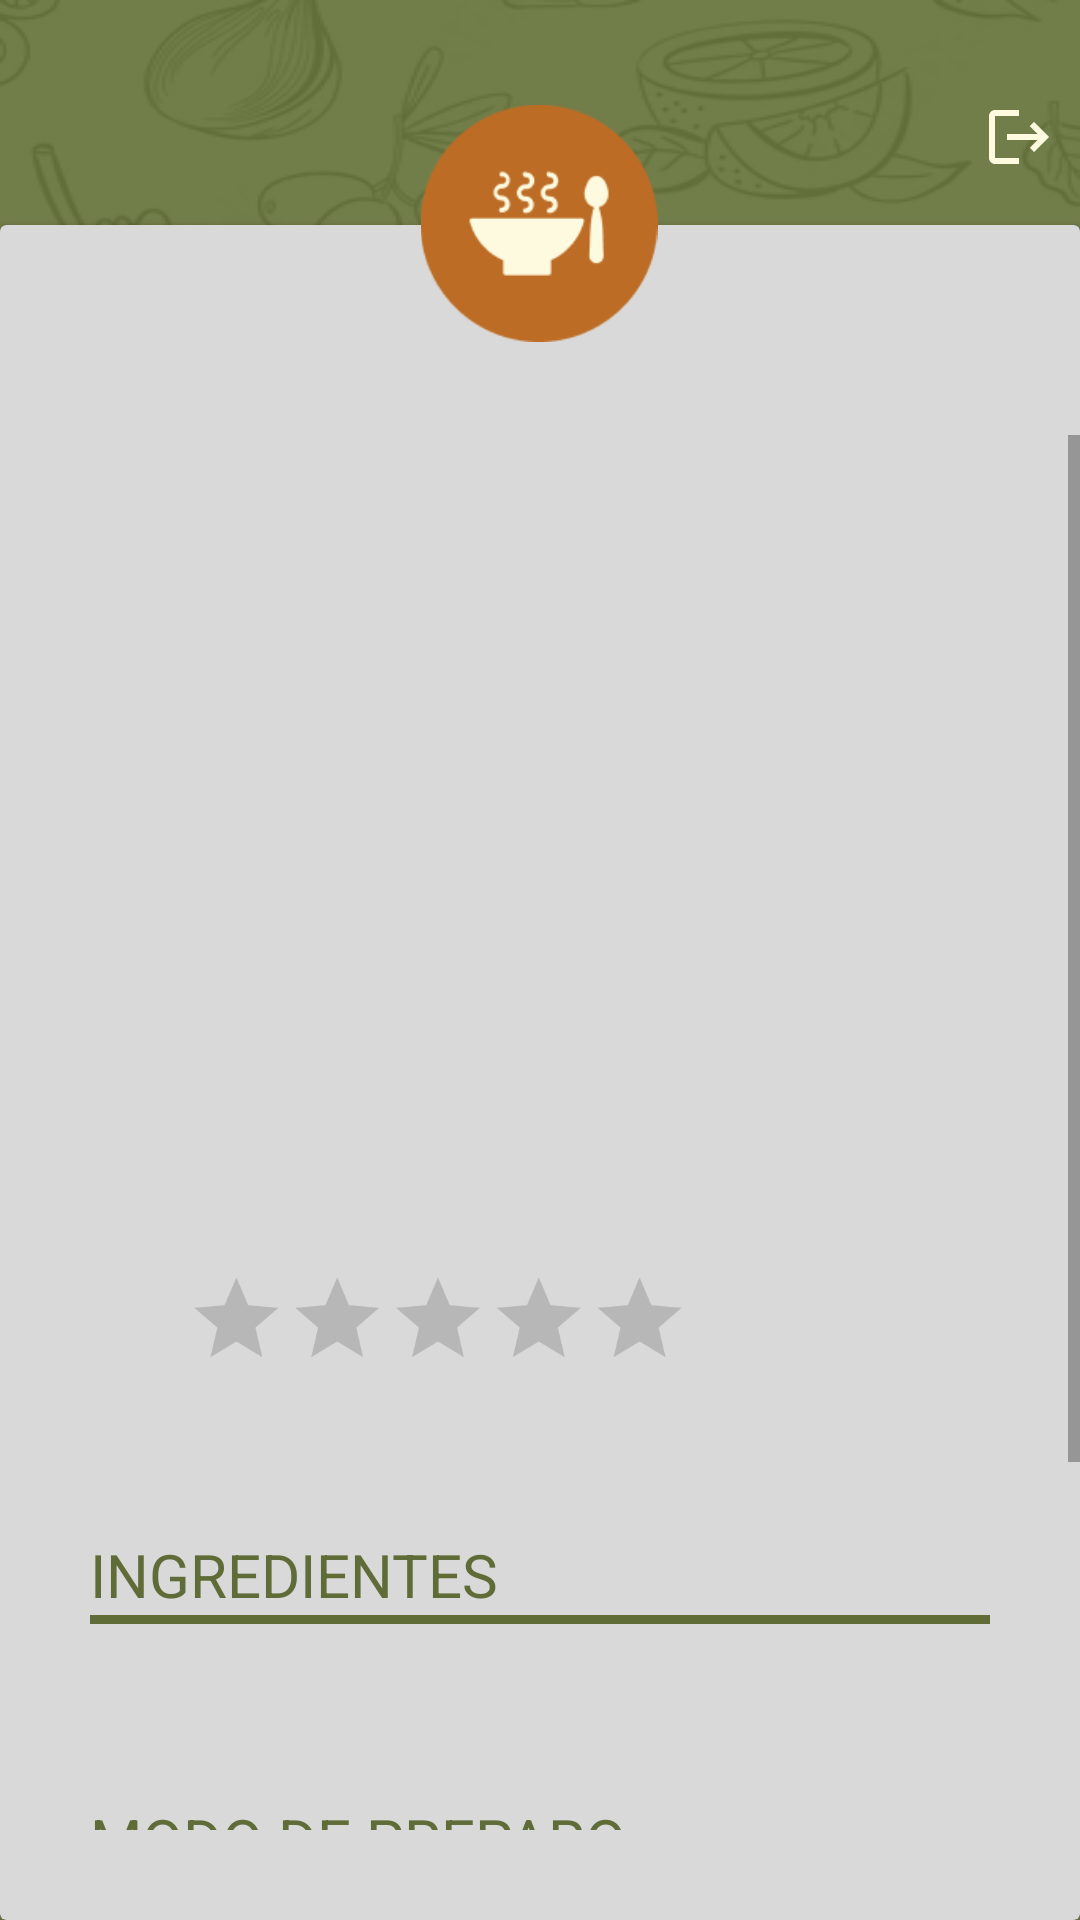

Where to tap for icons on this 1080×1920 app screen, as point (x, y):
receitas: point (539, 223)
